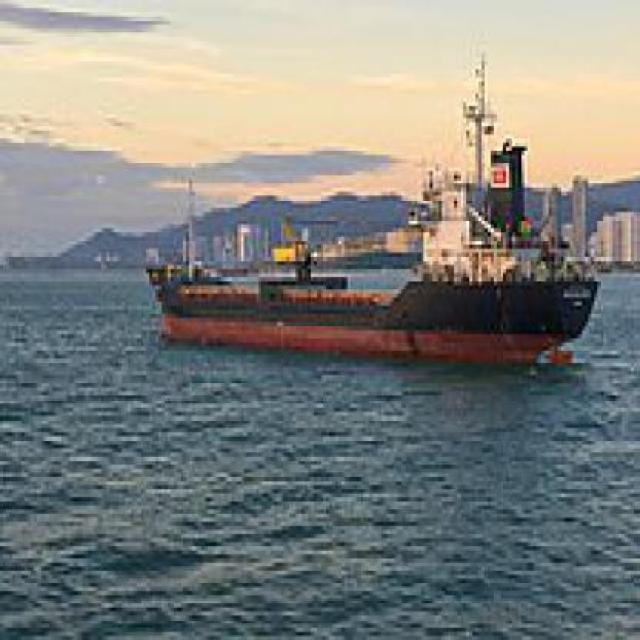container: (141, 46, 607, 384)
